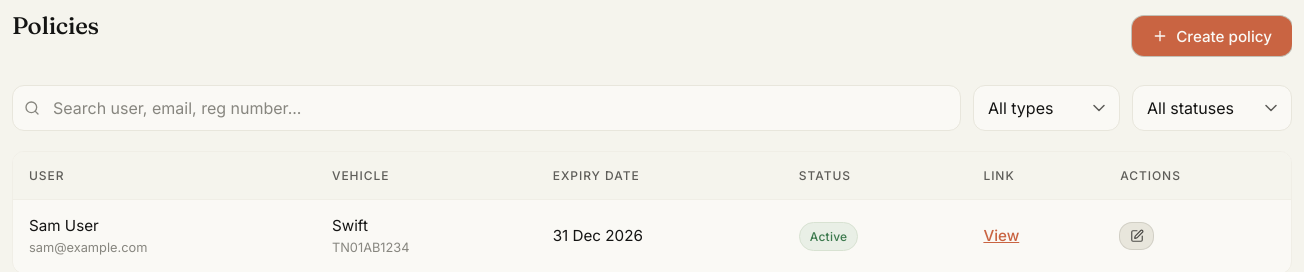
AdminPoliciesTab › renders policy rows and filters by search term
Expected: the text "Sam User" is shown, [29,216,99,235]
Expected: the text "TN01AB1234" is shown, [332,240,410,255]
Step 1. Type "missing" into the field with placeholder "Search user, email, reg number..." → (486, 108), box [12,85,961,131]
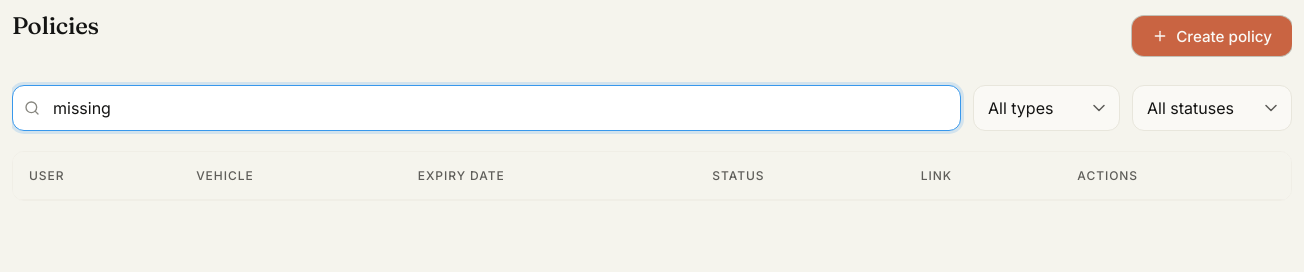
Now the text "Sam User" is gone
